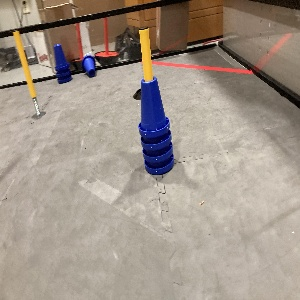Blue_4: (137, 76, 174, 173)
